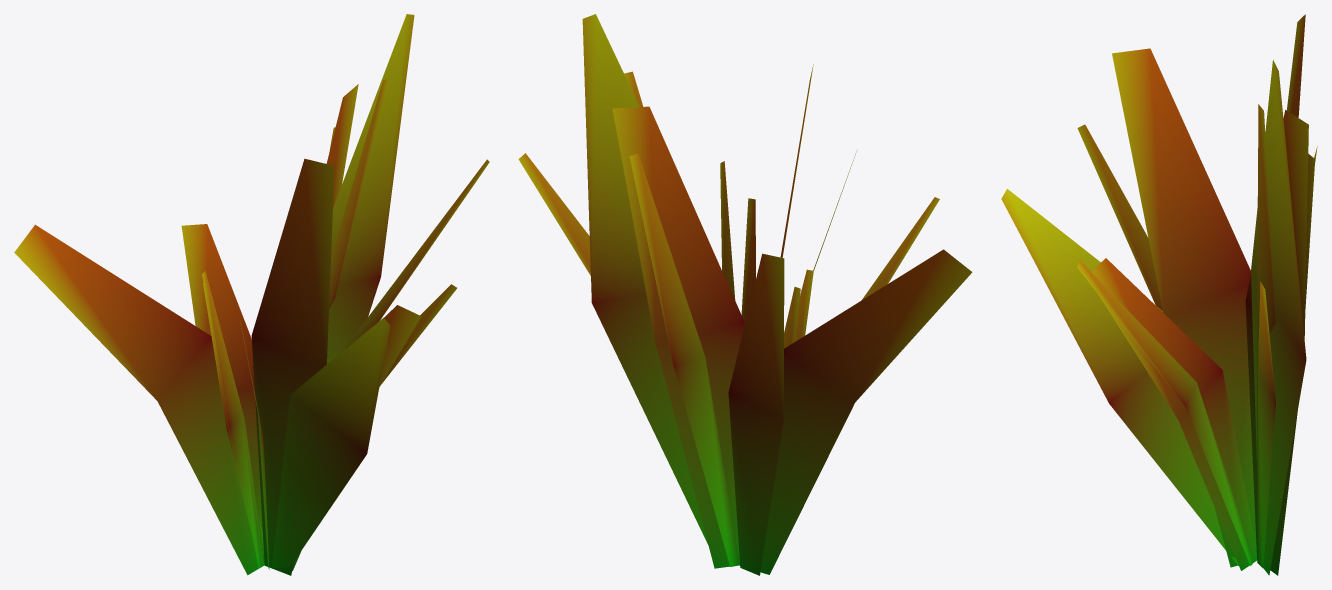
File: tmjhcayia_Var7_LOD3.fbx
3 views of the same model, side by side, from view 1: azimuth 30°, elevation 25°; view 2: azimuth 150°, elevation 25°; view 3: azimuth 270°, elevation 25° (orthographic). The views are drawn at different scales.
Parts seen in each view (by area): view 1: Var7_LOD3; view 2: Var7_LOD3; view 3: Var7_LOD3.
Part boxes in pixels (x1=…): Var7_LOD3: x1=14, y1=14, x2=489, y2=575; Var7_LOD3: x1=518, y1=14, x2=972, y2=575; Var7_LOD3: x1=1001, y1=14, x2=1317, y2=575.
Bounding box in the file's own units: 6.39 × 6.84 × 3.36.
